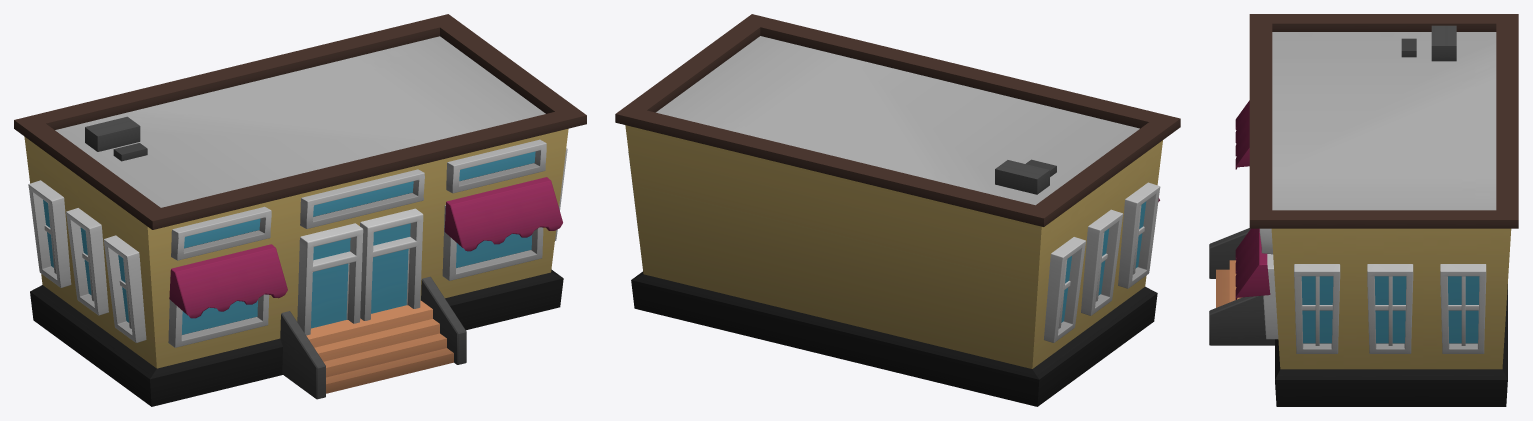
Rendered from building_05.fbx.
3 views of the same model, side by side, from view 1: azimuth 30°, elevation 25°; view 2: azimuth 150°, elevation 25°; view 3: azimuth 270°, elevation 25° (orthographic). The views are drawn at different scales.
Visible parts, largest first — view 1: Building_05; view 2: Building_05; view 3: Building_05.
Part boxes in pixels (x1,y1,x2,y2): Building_05: (14, 14, 586, 406); Building_05: (615, 14, 1180, 406); Building_05: (1209, 14, 1518, 406).
Size of the model in its own units: 773 by 344 by 483.
